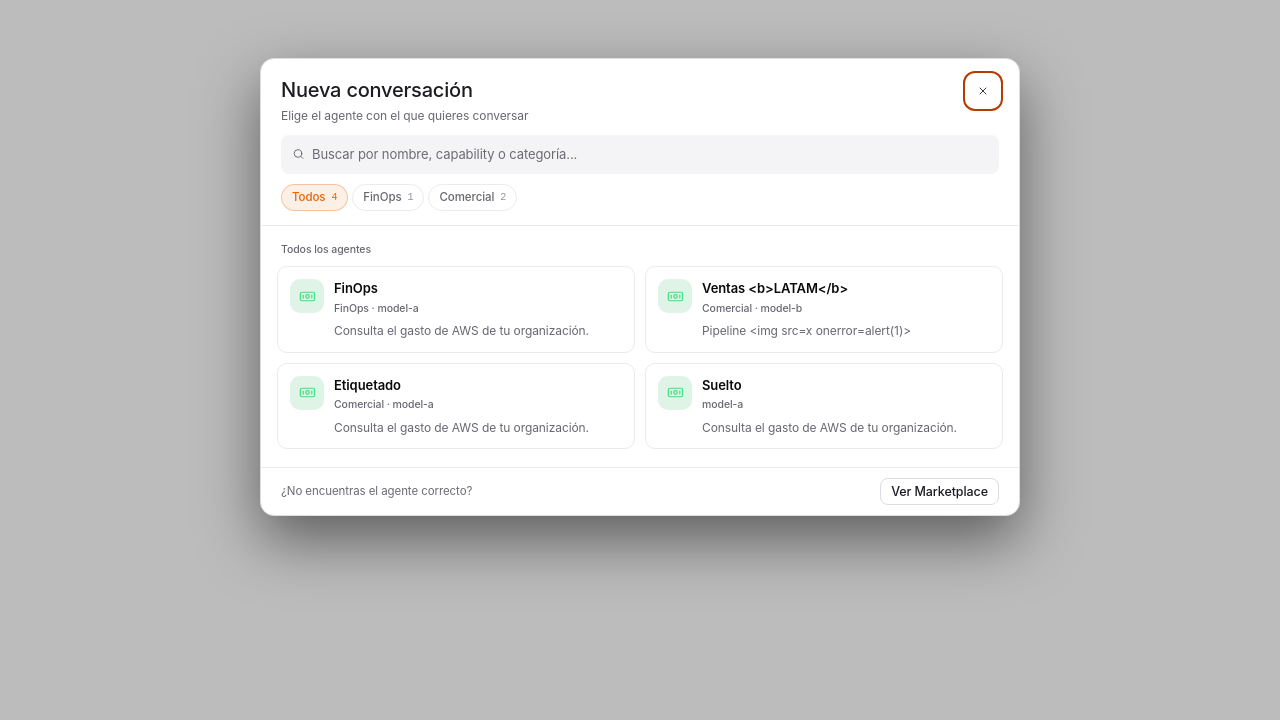
AgentPicker › searches by name, description and category
The width and height of the screenshot is (1280, 720).
Type "  PIPELINE " into the search field named "Buscar agentes" at (640, 154), box [281,135,999,174]
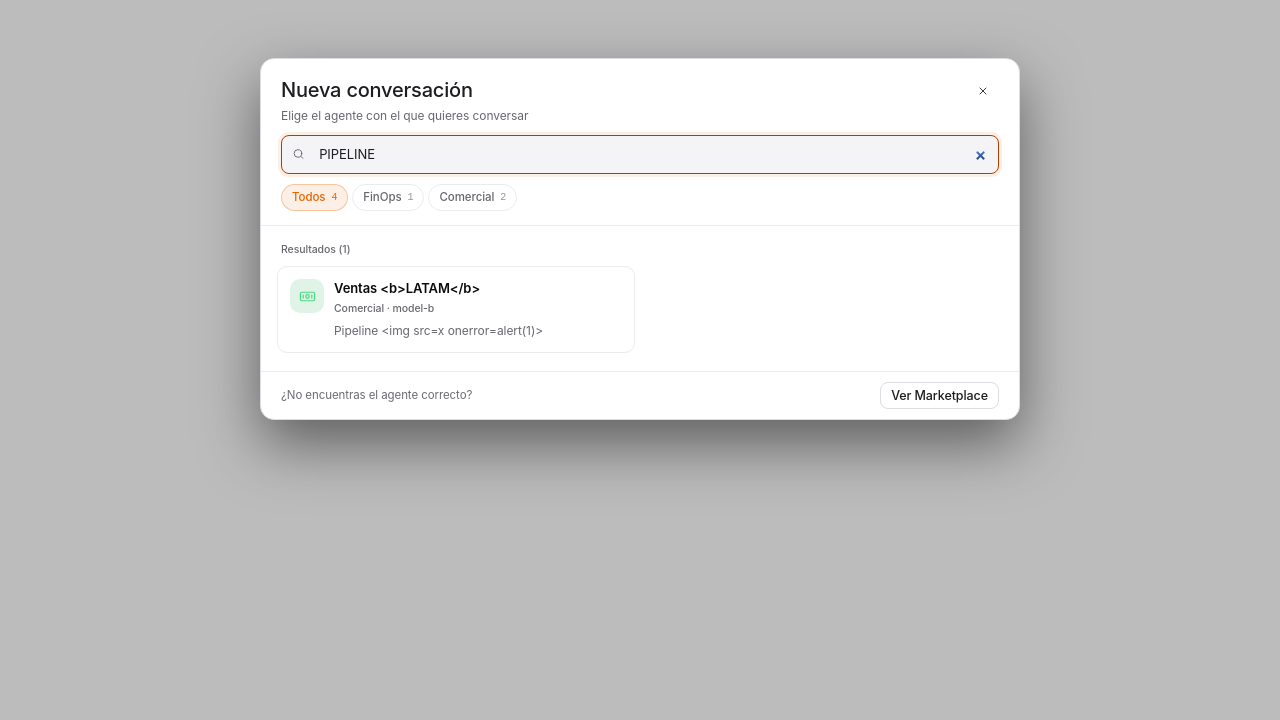
Expected: the heading "Resultados (1)" is shown, [281,243,350,256]
Replace the text in the search field with "<script>" at (640, 154), box [281,135,999,174]
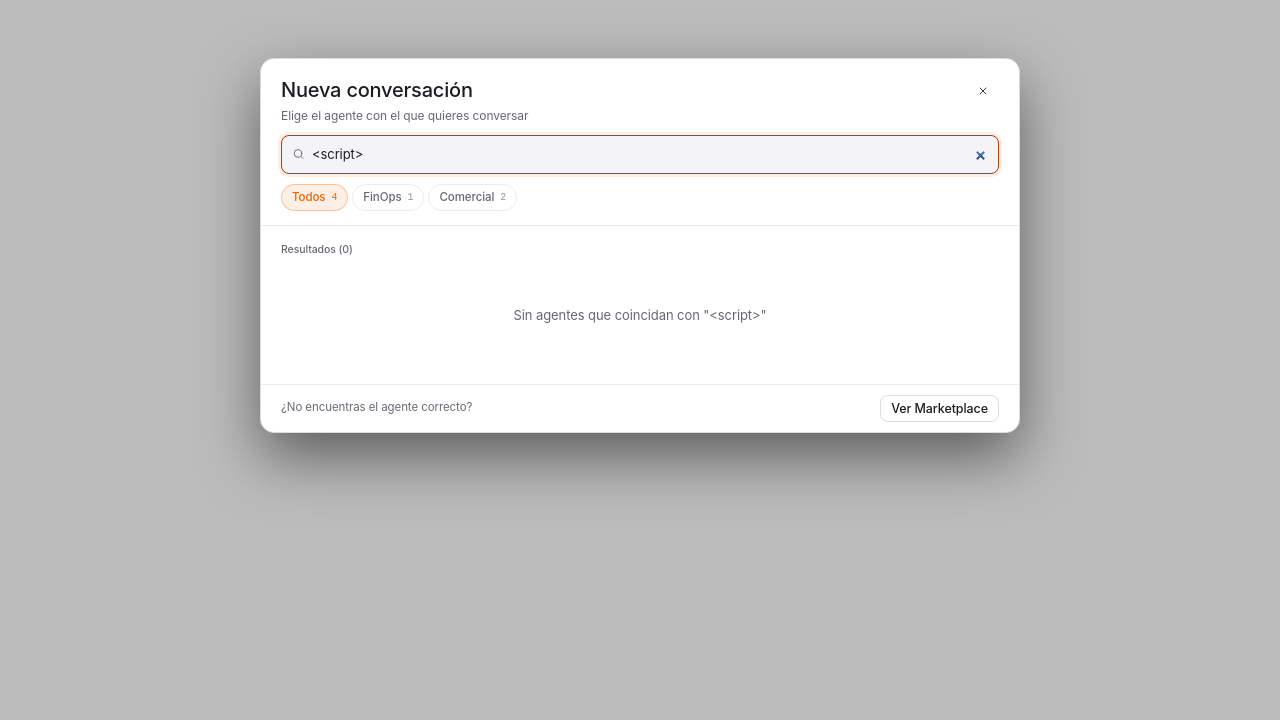
Expected: the text "Sin agentes que coincidan con \"<script>\"" is shown, [514,307,766,323]
